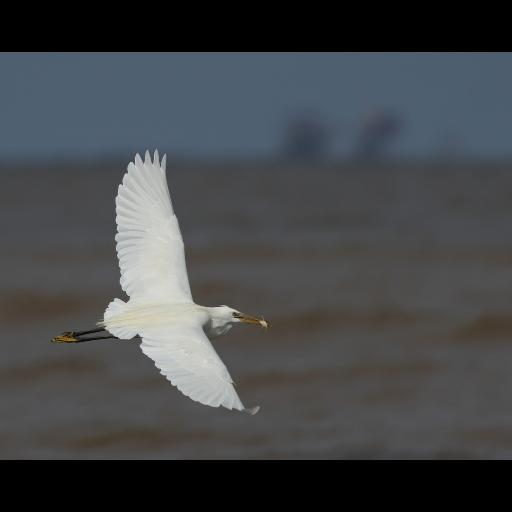chinese_egret: (49, 148, 273, 414)
